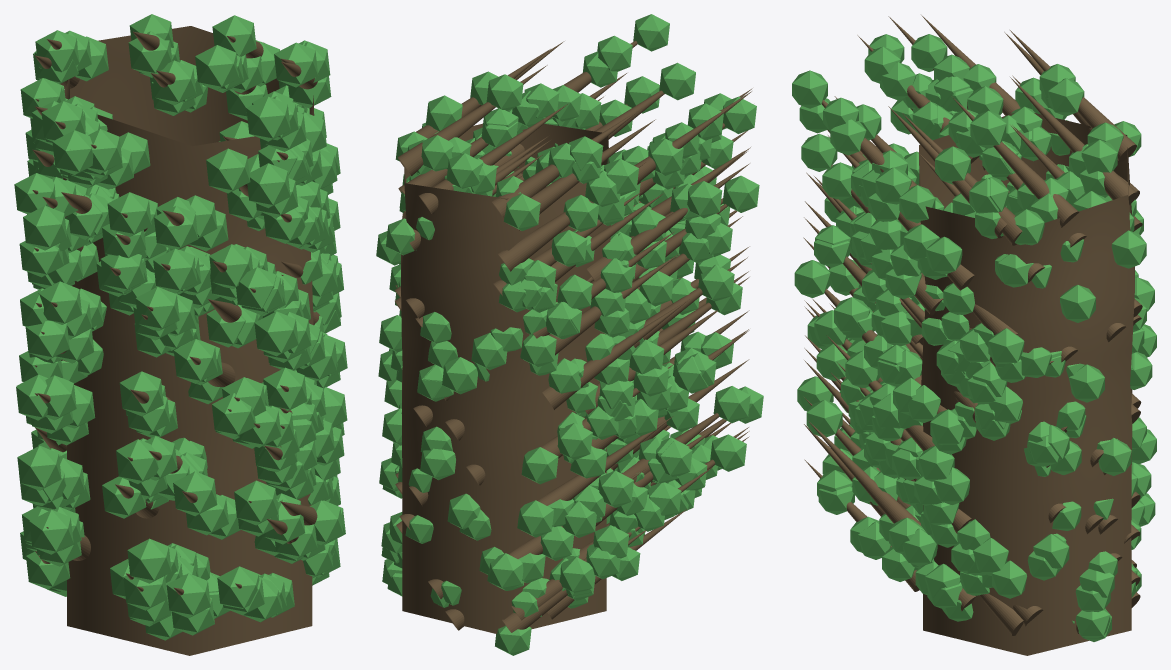
File: tree_var_6507.glb
3 renders of one model, left to right at view 1: azimuth 30°, elevation 25°; view 2: azimuth 150°, elevation 25°; view 3: azimuth 270°, elevation 25°, orthographic. The views are drawn at different scales.
Parts seen in each view (by area): view 1: tree_var_6507; view 2: tree_var_6507; view 3: tree_var_6507.
Part boxes in pixels (x1,y1,x2,y2): tree_var_6507: (14, 14, 347, 655); tree_var_6507: (376, 14, 763, 655); tree_var_6507: (792, 15, 1156, 655).
Bounding box in the file's own units: 3.02 × 4.92 × 3.03.
